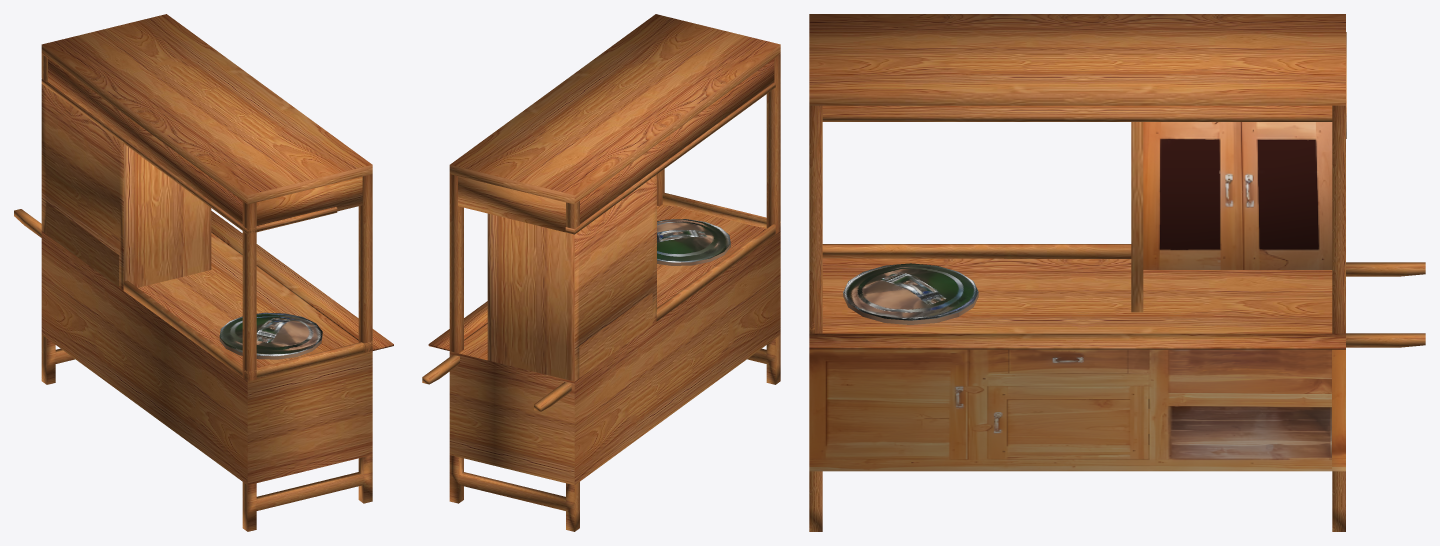
File: bakso-apply.fbx
3 views of the same model, side by side, from view 1: azimuth 30°, elevation 25°; view 2: azimuth 150°, elevation 25°; view 3: azimuth 270°, elevation 25° (orthographic). The views are drawn at different scales.
Parts seen in each view (by area): view 1: Cube.002; view 2: Cube.002; view 3: Cube.002.
Boxes of the visible parts, box(x1,y1,x2,y2) form: Cube.002: box(14, 14, 393, 531); Cube.002: box(422, 14, 780, 531); Cube.002: box(809, 14, 1425, 531).
Size of the model in its own units: 81.92 by 180 by 230.
Materials: 1 (1 with a texture image).
